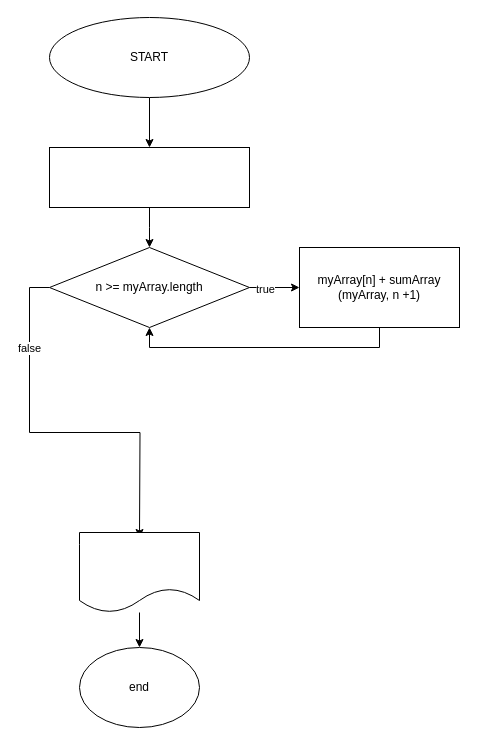
The diagram is 477 pixels wide and 745 high, and some of its shapes have lost their labels. The shapes that lost their labels are listed below. From the top down, each one's centre as x and y in pixels, then its label:
point (149, 177): int[] myArray = {1, 2, 3, 4, 5}; int n =0; int sum = sumArray(int[] arr, int n);
point (139, 572): sum
